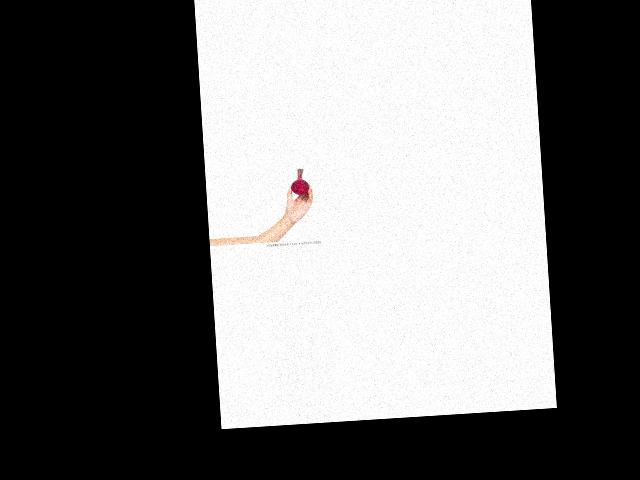beet: (290, 167, 310, 196)
